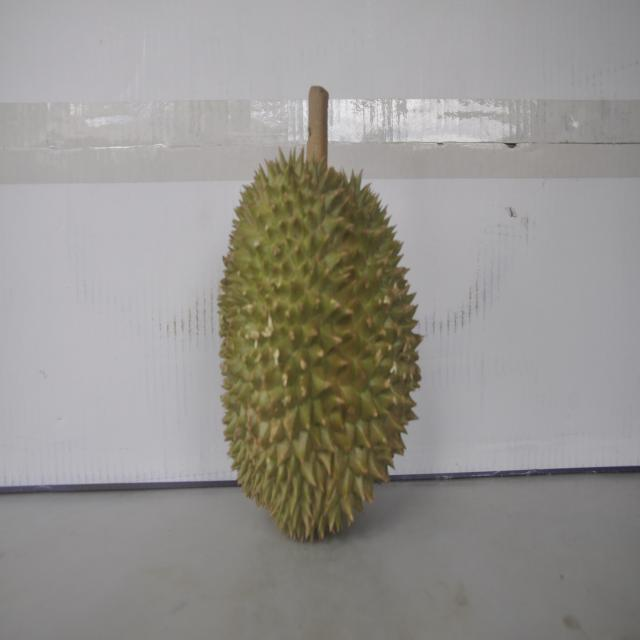mature: (214, 137, 420, 542)
